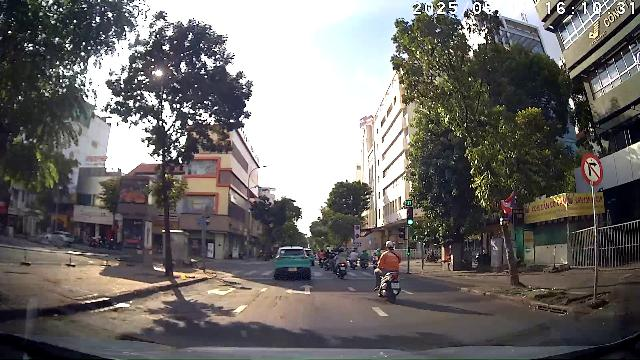123b-cam-re-phai: (581, 153, 603, 185)
